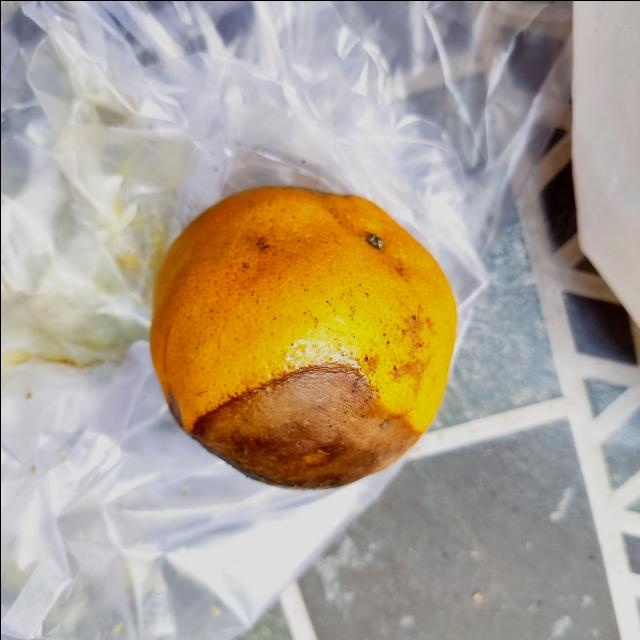agrume: (148, 182, 464, 490)
